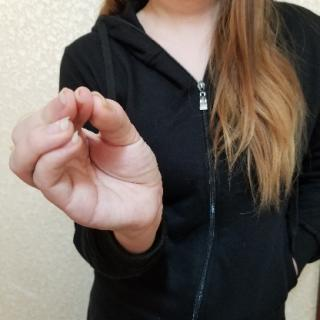HA: (8, 78, 172, 238)
